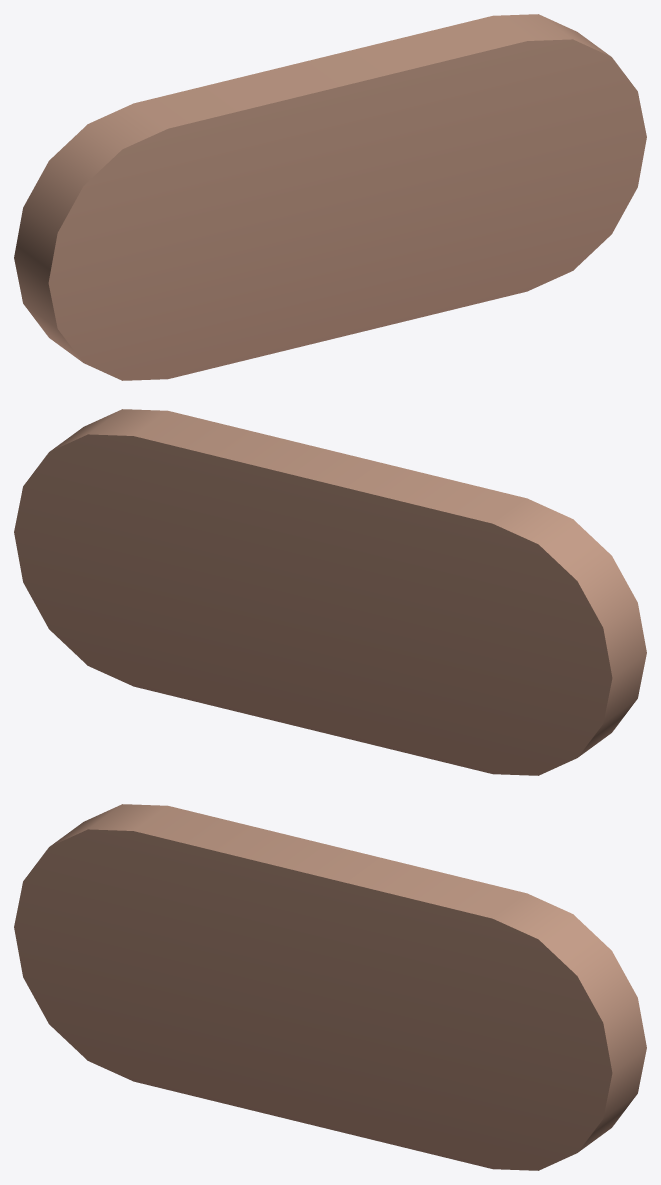
The model's file is plank-small-e.glb.
The picture shows the model from 3 angles, top to bottom: view 1: azimuth 30°, elevation 25°; view 2: azimuth 150°, elevation 25°; view 3: azimuth 330°, elevation 25°; orthographic projection.
Parts seen in each view (by area): view 1: plank-small-e; view 2: plank-small-e; view 3: plank-small-e.
Boxes of the visible parts, left/top/right/bottom form: plank-small-e: left=14, top=14, right=646, bottom=380; plank-small-e: left=14, top=409, right=646, bottom=775; plank-small-e: left=14, top=804, right=646, bottom=1170.
Size of the model in its own units: 0.5 by 0.2 by 0.05.
